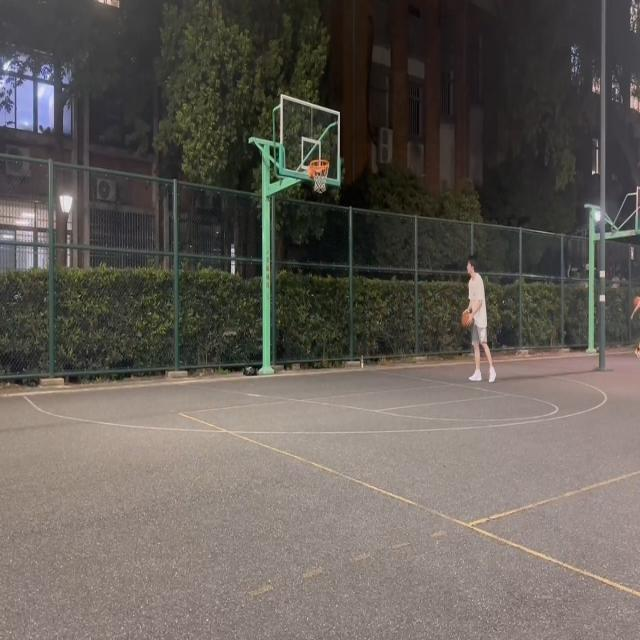basketball: (308, 159, 329, 194)
rim: (462, 312, 471, 327)
